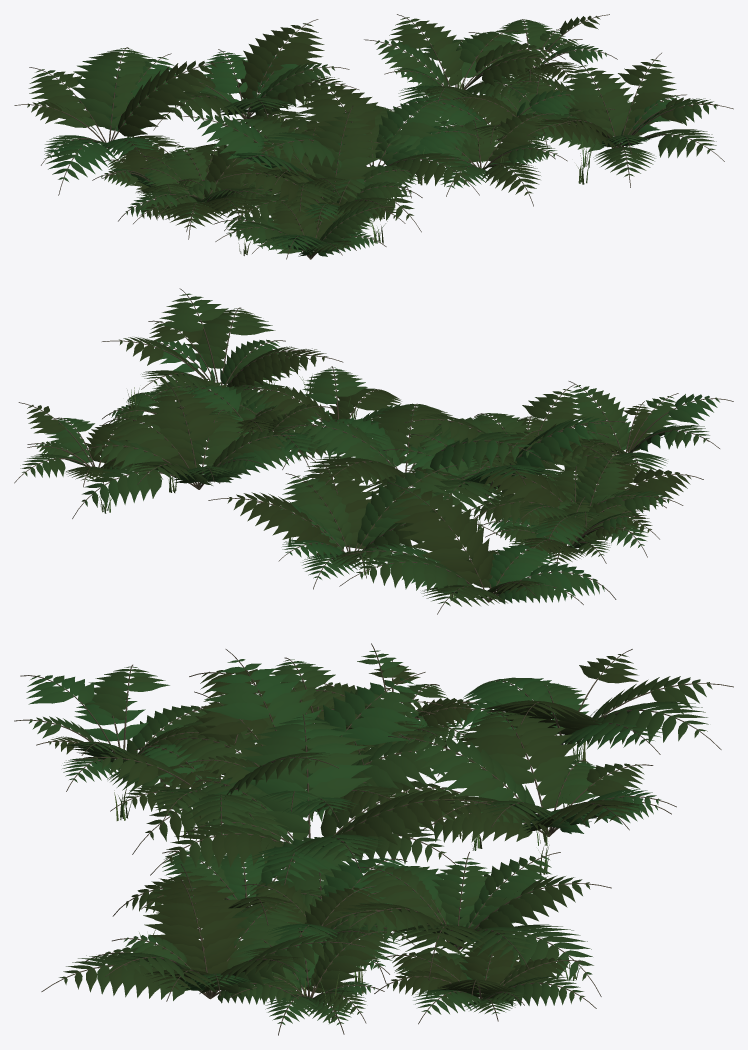
File: ER_Massif_Fougeres_Dense_4x3m.gltf
3 views of the same model, one above another, from view 1: azimuth 30°, elevation 25°; view 2: azimuth 150°, elevation 25°; view 3: azimuth 270°, elevation 25° (orthographic). The views are drawn at different scales.
Parts seen in each view (by area): view 1: ER_Massif_Fougeres_Dense_4x3m_FOU.001, ER_Massif_Fougeres_Dense_4x3m_TIG.001, ER_Massif_Fougeres_Dense_4x3m_HER.001; view 2: ER_Massif_Fougeres_Dense_4x3m_FOU.001, ER_Massif_Fougeres_Dense_4x3m_TIG.001, ER_Massif_Fougeres_Dense_4x3m_HER.001; view 3: ER_Massif_Fougeres_Dense_4x3m_FOU.001, ER_Massif_Fougeres_Dense_4x3m_TIG.001, ER_Massif_Fougeres_Dense_4x3m_HER.001.
Boxes of the visible parts, <box> form: ER_Massif_Fougeres_Dense_4x3m_FOU.001: <box>27,16,717,256</box>; ER_Massif_Fougeres_Dense_4x3m_TIG.001: <box>14,14,733,259</box>; ER_Massif_Fougeres_Dense_4x3m_HER.001: <box>118,75,600,255</box>; ER_Massif_Fougeres_Dense_4x3m_FOU.001: <box>20,293,719,606</box>; ER_Massif_Fougeres_Dense_4x3m_TIG.001: <box>14,288,733,614</box>; ER_Massif_Fougeres_Dense_4x3m_HER.001: <box>99,375,646,600</box>; ER_Massif_Fougeres_Dense_4x3m_FOU.001: <box>26,650,712,1025</box>; ER_Massif_Fougeres_Dense_4x3m_TIG.001: <box>14,643,733,1035</box>; ER_Massif_Fougeres_Dense_4x3m_HER.001: <box>114,718,585,1022</box>.
Size of the model in its own units: 5.16 by 0.7433 by 4.34.
